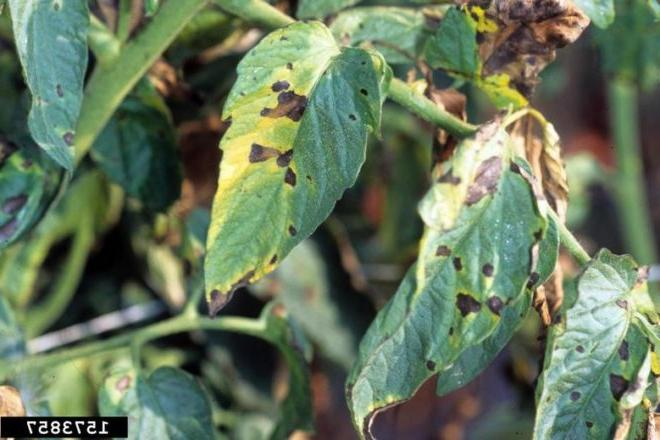Tomato Early blight leaf: (341, 125, 546, 416), (183, 30, 392, 297)
